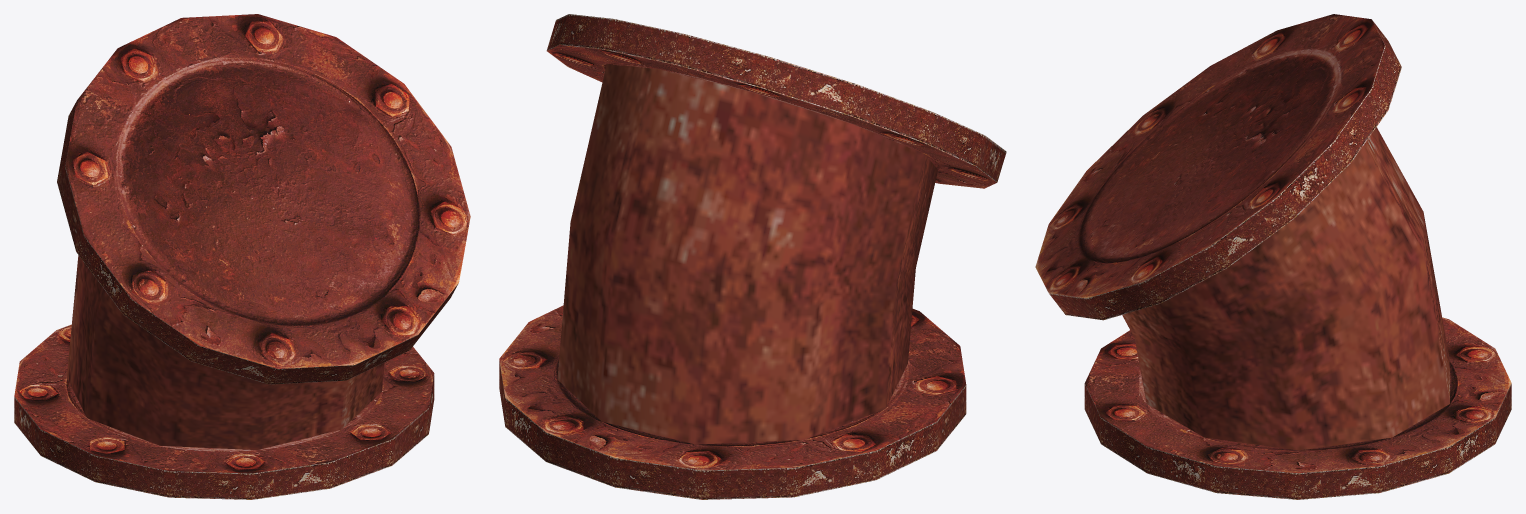
Rendered from elbow_35_red.DAE.
3 views of the same model, side by side, from view 1: azimuth 30°, elevation 25°; view 2: azimuth 150°, elevation 25°; view 3: azimuth 270°, elevation 25° (orthographic). The views are drawn at different scales.
Parts seen in each view (by area): view 1: Object530, Torus037; view 2: Torus037, Object530; view 3: Object530, Torus037.
Boxes of the visible parts, x1,y1,x2,y2 form: Object530: (14, 14, 470, 499); Torus037: (66, 255, 384, 449); Torus037: (557, 64, 937, 444); Object530: (499, 14, 1006, 499); Object530: (1035, 14, 1511, 499); Torus037: (1122, 127, 1449, 450).
Bounding box in the file's own units: 0.6566 × 0.7326 × 0.6188.
